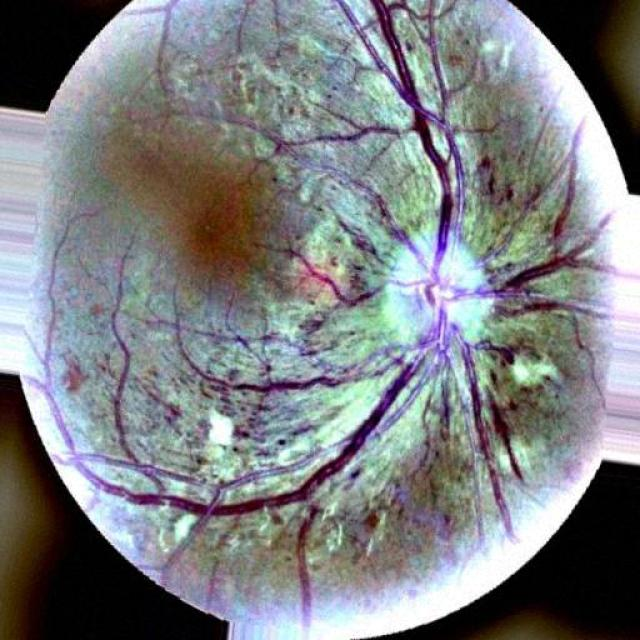Macula: (186, 175, 254, 271)
Nerves: (31, 0, 632, 536), (172, 315, 348, 402), (285, 248, 379, 306)
Optic Disk: (385, 231, 495, 344)
